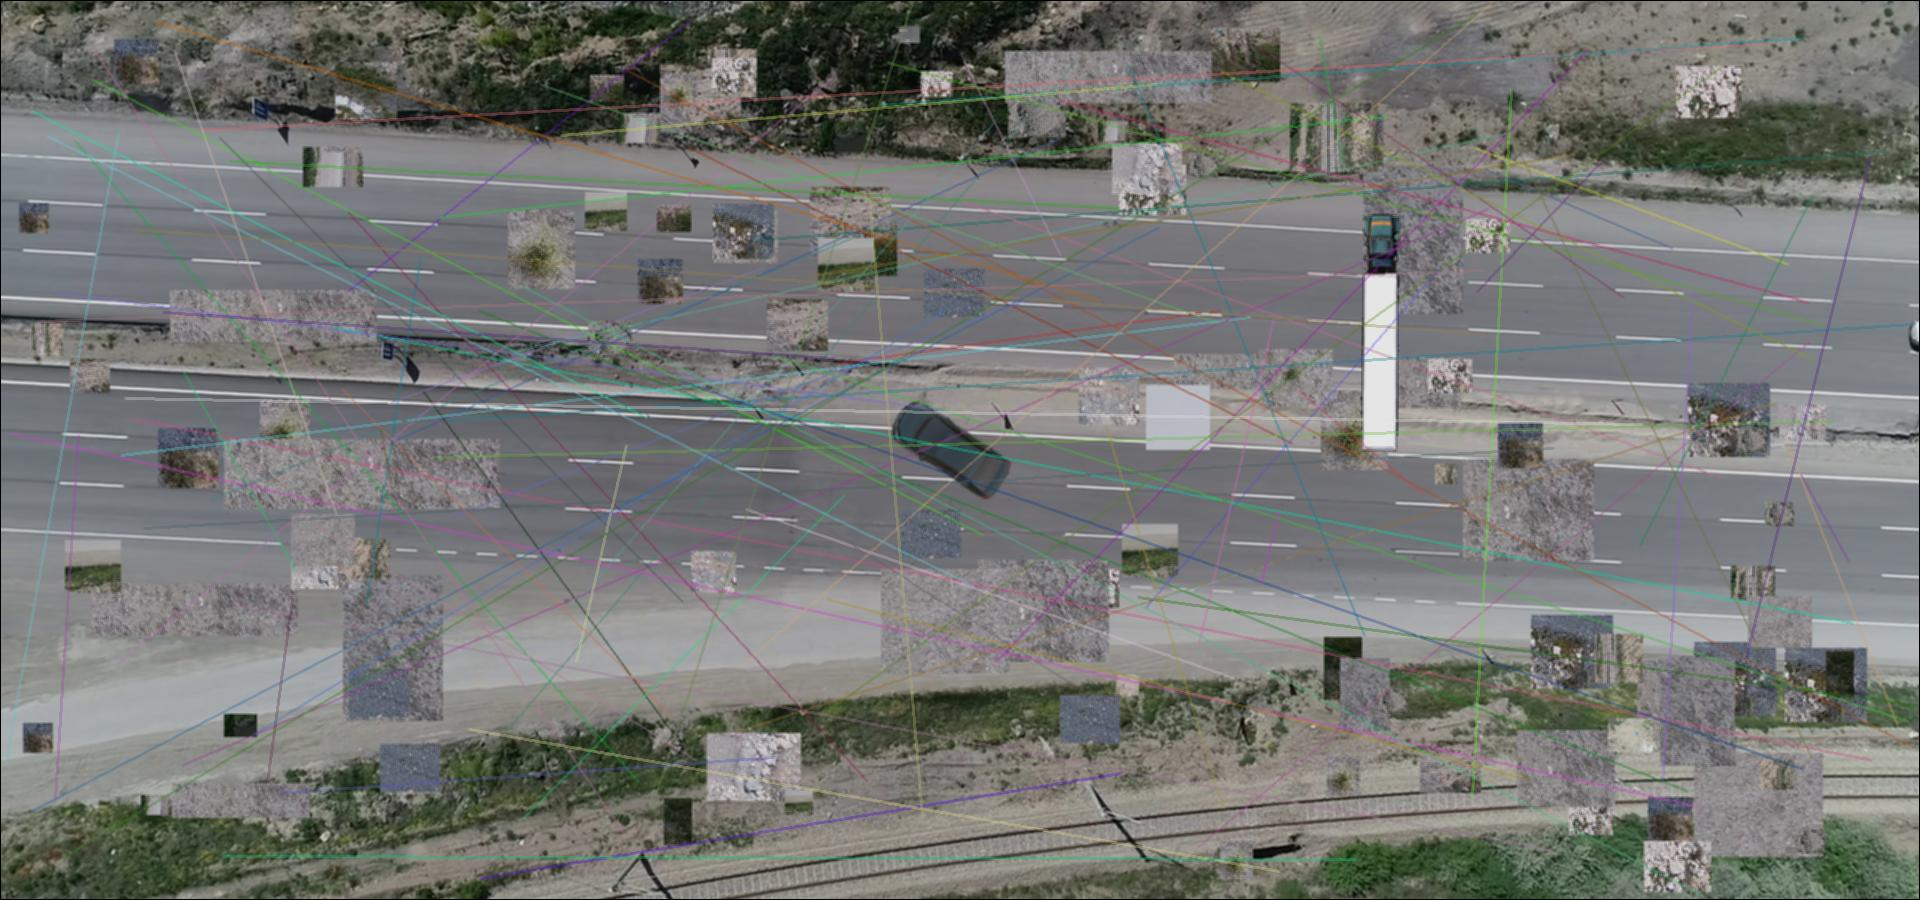arac: (1352, 212, 1411, 454), (891, 400, 1013, 500)
